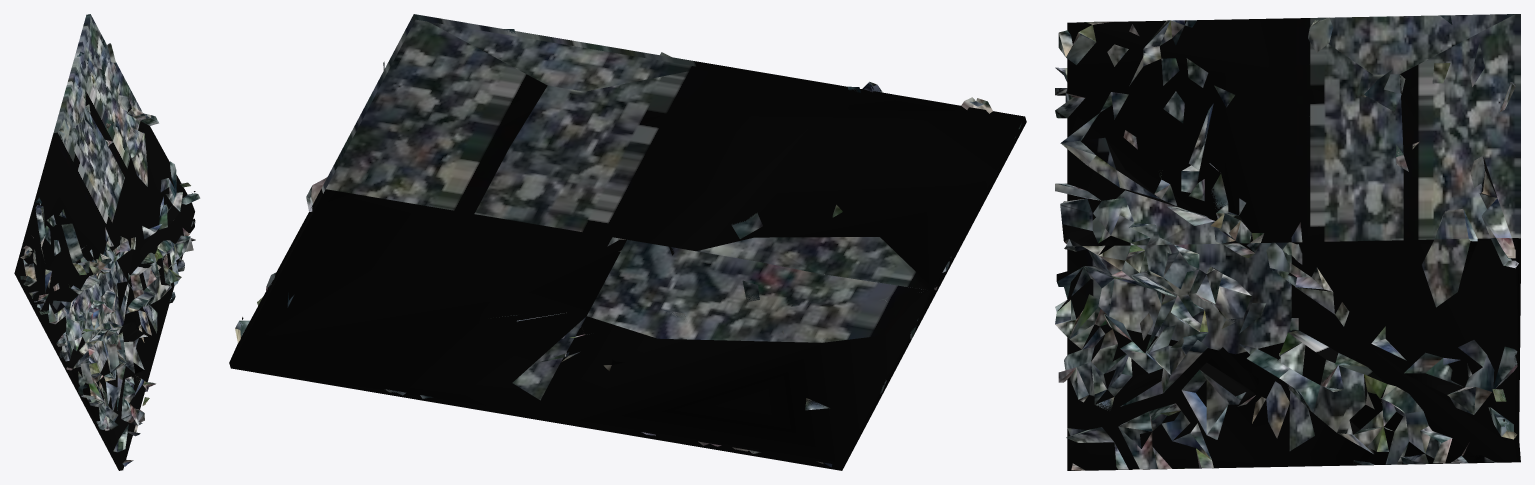
3 views of the same model, side by side, from view 1: azimuth 30°, elevation 25°; view 2: azimuth 150°, elevation 25°; view 3: azimuth 270°, elevation 25° (orthographic). The views are drawn at different scales.
Parts seen in each view (by area): view 1: node_304362727043634_mesh0; view 2: node_304362727043634_mesh0; view 3: node_304362727043634_mesh0.
Boxes of the visible parts, <box> form: node_304362727043634_mesh0: <box>14,14,200,470</box>; node_304362727043634_mesh0: <box>229,14,1026,470</box>; node_304362727043634_mesh0: <box>1055,14,1520,470</box>.
Size of the model in its own units: 1166 by 1165 by 907.
Materials: 1 (1 with a texture image).
